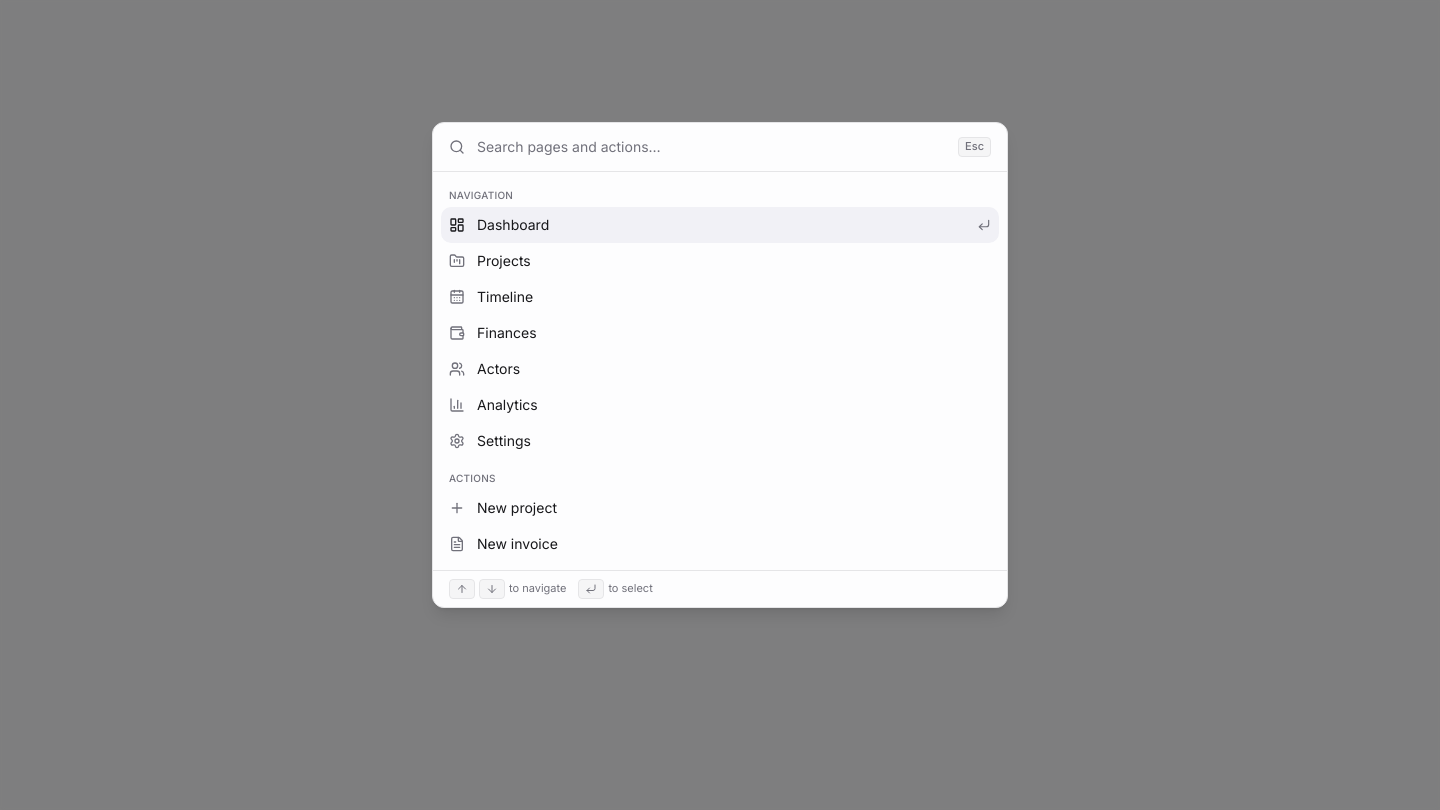
CommandPalette › filters commands as you type, including keyword matches
Type "invoice" into the field with placeholder "Search pages and actions…" at (712, 146), box [477, 122, 946, 170]
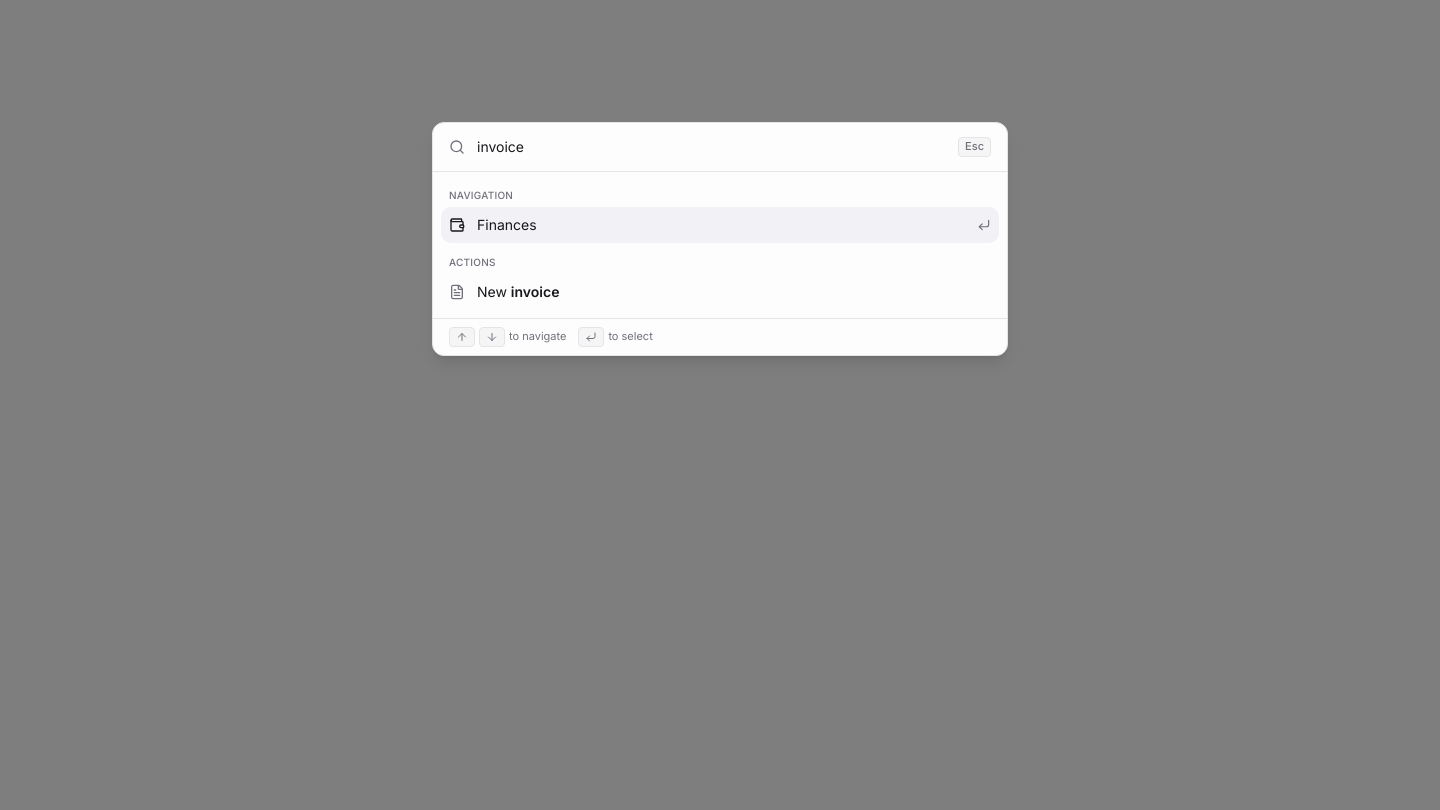
Expected: the button "New invoice" is shown, [441, 274, 999, 310]
Expected: the button "Analytics" is gone
